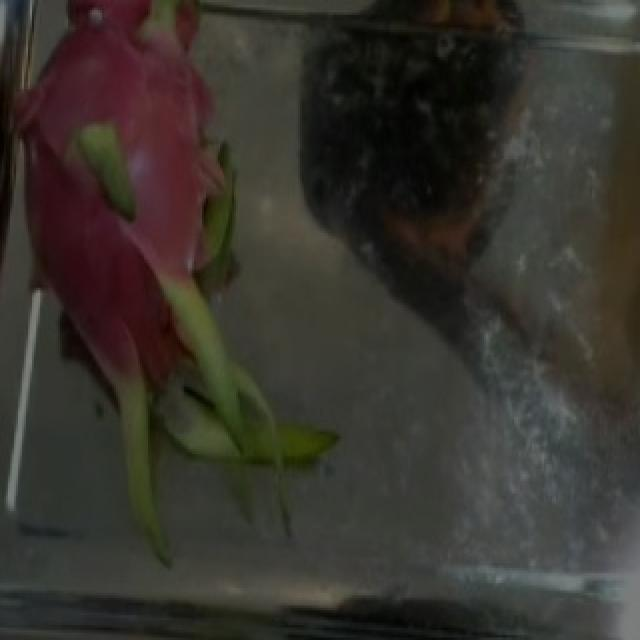fruit: (0, 8, 338, 462)
